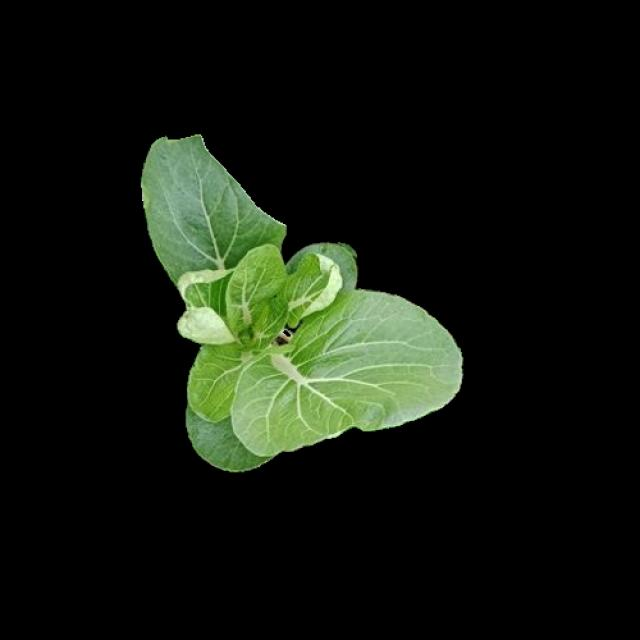not-mature: (143, 133, 460, 470)
unhealthy: (176, 246, 346, 338)
